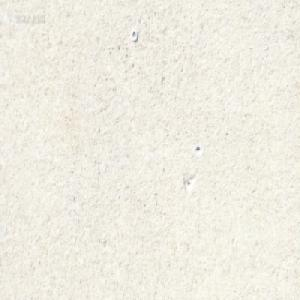Washer: (130, 28, 138, 41)
